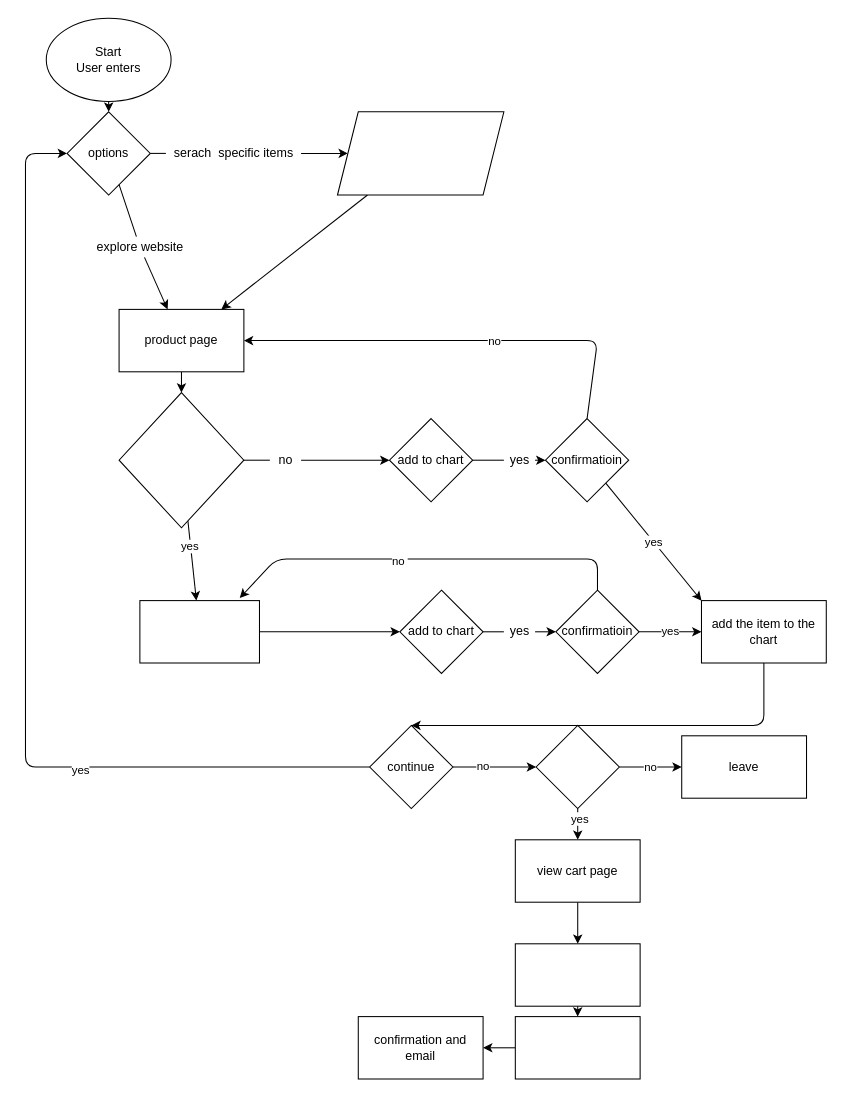
This 844x1097 diagram has some shape labels left out. The centre of each missing label's shape, as x and y in pixels:
"check out" goes at (x=577, y=766).
"if view specific tiem" goes at (x=181, y=460).
"input: what they are looking for" goes at (x=420, y=153).
"item page" goes at (x=199, y=631).
"payment info" goes at (x=577, y=1047).
"view payment" goes at (x=577, y=974).
